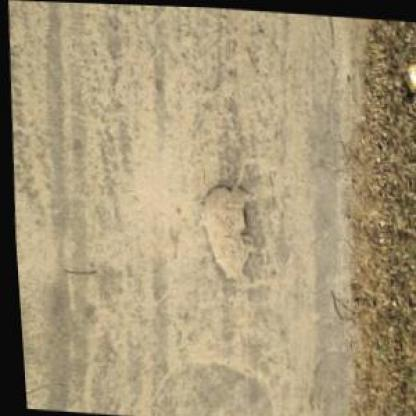pothole: (193, 176, 258, 283)
